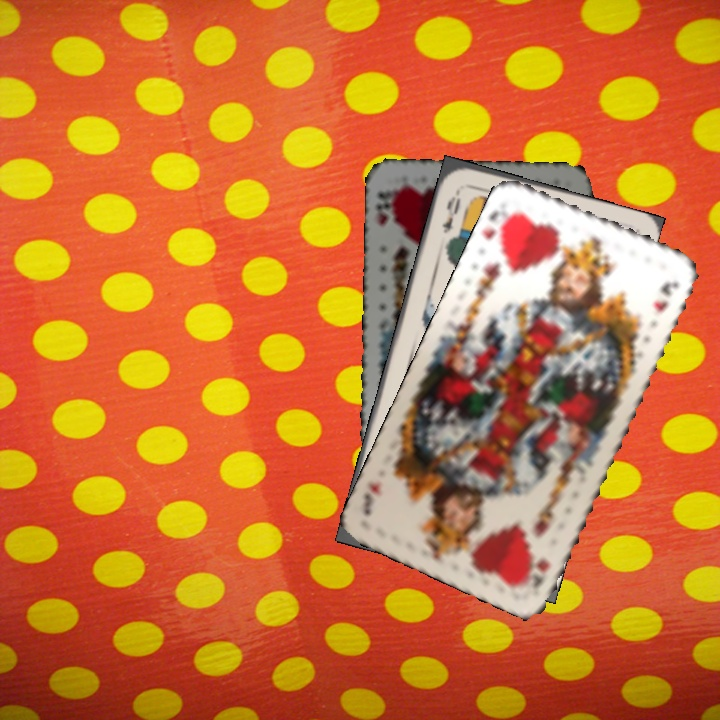EO: (437, 185, 464, 236)
HK: (479, 203, 519, 249), (372, 186, 399, 229), (526, 553, 553, 596)
